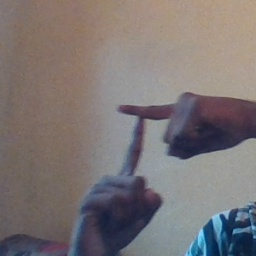T: (99, 86, 193, 199)
